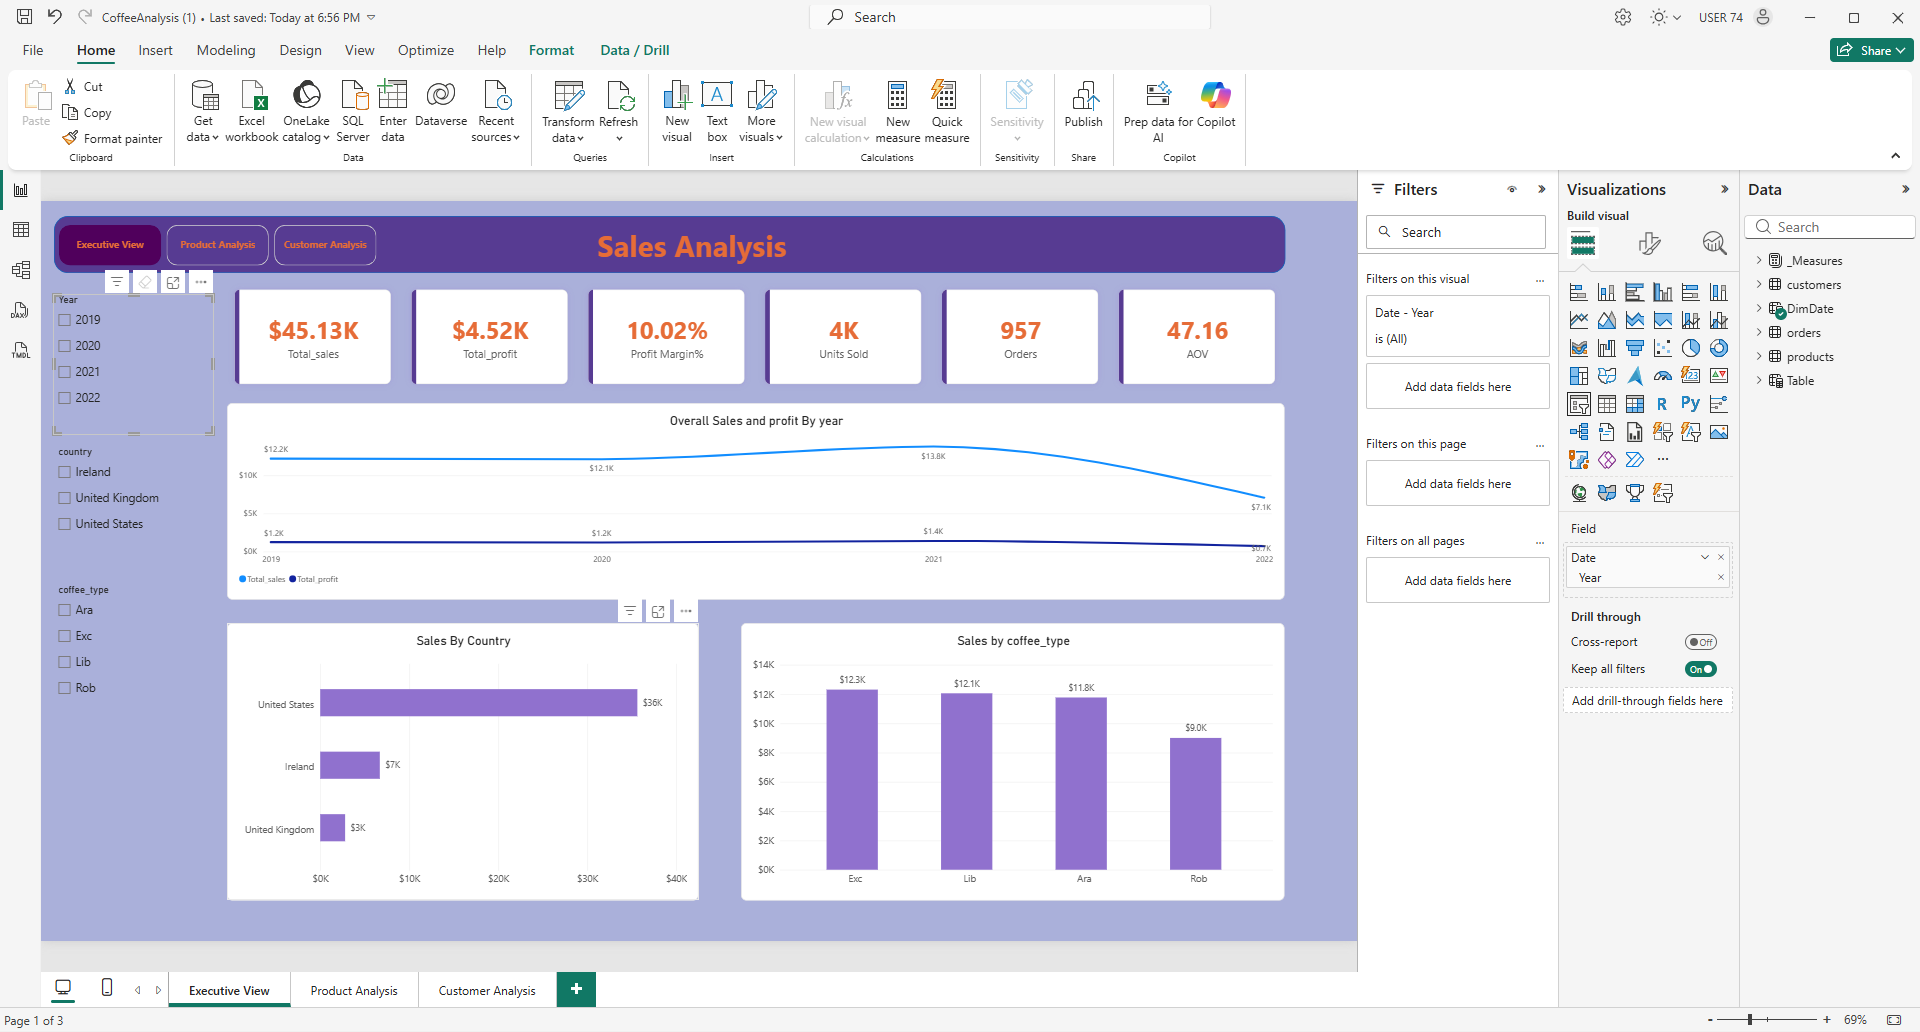

The page's visual inventory and layout, read from the dashboard file:
{"tool":"powerbi","page":{"name":"Executive View","canvas":[1920,1080],"ordinal":0},"visuals":[{"type":"shape","box":[18.3,21.7,1796.7,83.3],"z":0},{"type":"cardVisual","fields":{"Data":["_Measures.Total_sales","_Measures.Total_profit","_Measures.Profit Margin%","_Measures.Units Sold","_Measures.Orders","_Measures.AOV"]},"box":[271.7,118.3,1543.3,160],"z":1000},{"type":"lineChart","title":"Overall Sales and profit By year","fields":{"Category":["DimDate.Date.Variation.Date Hierarchy.Year"],"Y":["_Measures.Total_sales","_Measures.Total_profit"]},"box":[271.7,295,1543.3,286.7],"z":2000},{"type":"clusteredColumnChart","title":"Sales by coffee_type","fields":{"Category":["products.coffee_type"],"Y":["_Measures.Total_sales"]},"box":[1021.7,615,793.3,405],"z":3000},{"type":"clusteredBarChart","title":"Sales By Country","fields":{"Category":["customers.country"],"Y":["_Measures.Total_sales"]},"box":[271.7,615,688.3,405],"z":4000},{"type":"slicer","fields":{"Values":["DimDate.Date.Variation.Date Hierarchy.Year"]},"box":[16.9,135.4,235,206.7],"z":5000},{"type":"slicer","fields":{"Values":["customers.country"]},"box":[16.9,357,235,173.3],"z":6000},{"type":"slicer","title":"Roast ","fields":{"Values":["products.coffee_type"]},"box":[16.9,558.7,235,278.3],"z":7000},{"type":"textbox","box":[615.7,35,668.2,70],"z":8000},{"type":"pageNavigator","box":[26.3,35,465.4,59.8],"z":9000}]}

Visuals, with their boxes on the page's 1920x1080 design canvas (x1, y1, x2, y2). These are canvas units, not pixel positions in the 1920x1032 screenshot, which may show the page scaled, cropped or inside an application window:
shape: <box>18,22,1815,105</box>
cardVisual - _Measures.Total_sales x _Measures.Total_profit: <box>272,118,1815,278</box>
"Overall Sales and profit By year" lineChart: <box>272,295,1815,582</box>
"Sales by coffee_type" clusteredColumnChart: <box>1022,615,1815,1020</box>
"Sales By Country" clusteredBarChart: <box>272,615,960,1020</box>
slicer - DimDate.Date.Variation.Date Hierarchy.Year: <box>17,135,252,342</box>
slicer - customers.country: <box>17,357,252,530</box>
"Roast " slicer: <box>17,559,252,837</box>
textbox: <box>616,35,1284,105</box>
pageNavigator: <box>26,35,492,95</box>
